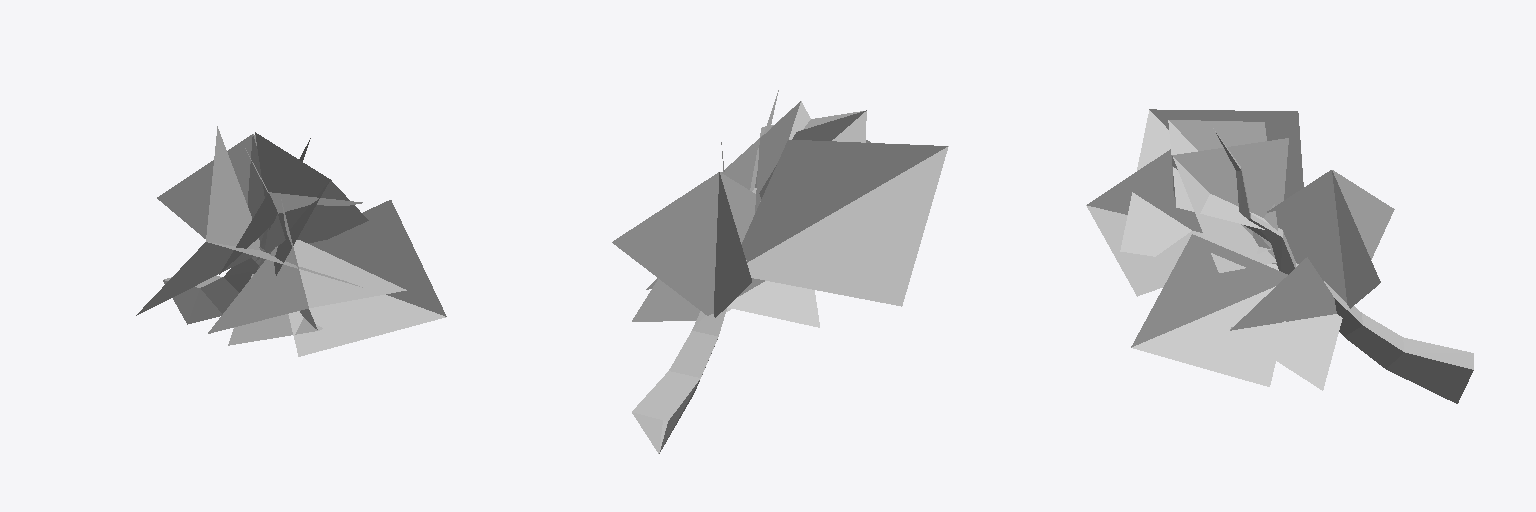
File: sholazar_branch_medium01.obj
The picture shows the model from 3 angles: view 1: azimuth 30°, elevation 25°; view 2: azimuth 150°, elevation 25°; view 3: azimuth 270°, elevation 25°; orthographic projection.
Visible parts, largest first — view 1: sholazar_branch_medium01; view 2: sholazar_branch_medium01; view 3: sholazar_branch_medium01.
Part boxes in pixels (left/top/right/bottom): sholazar_branch_medium01: left=136, top=126, right=446, bottom=356; sholazar_branch_medium01: left=612, top=90, right=948, bottom=453; sholazar_branch_medium01: left=1086, top=109, right=1473, bottom=403.
Size of the model in its own units: 69.87 by 72.53 by 91.98.